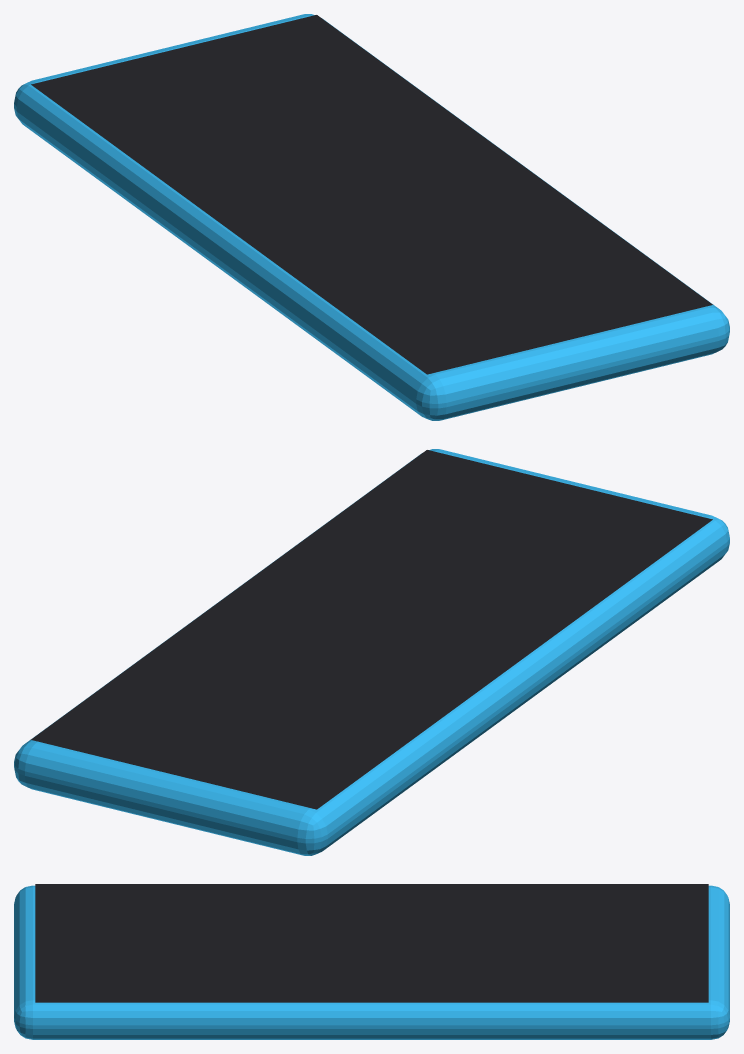
File: Phone_588.glb
The picture shows the model from 3 angles, top to bottom: view 1: azimuth 30°, elevation 25°; view 2: azimuth 150°, elevation 25°; view 3: azimuth 270°, elevation 25°; orthographic projection. The views are drawn at different scales.
Visible parts, largest first — view 1: Phone_Screen, Phone_Body; view 2: Phone_Screen, Phone_Body; view 3: Phone_Screen, Phone_Body.
Boxes of the visible parts, x1,y1,x2,y2 form: Phone_Screen: [31, 15, 712, 374]; Phone_Body: [14, 14, 729, 420]; Phone_Screen: [31, 450, 712, 809]; Phone_Body: [14, 449, 729, 855]; Phone_Screen: [35, 884, 708, 1002]; Phone_Body: [14, 885, 729, 1039].
Bounding box in the file's own units: 0.0721 × 0.01 × 0.1693.
